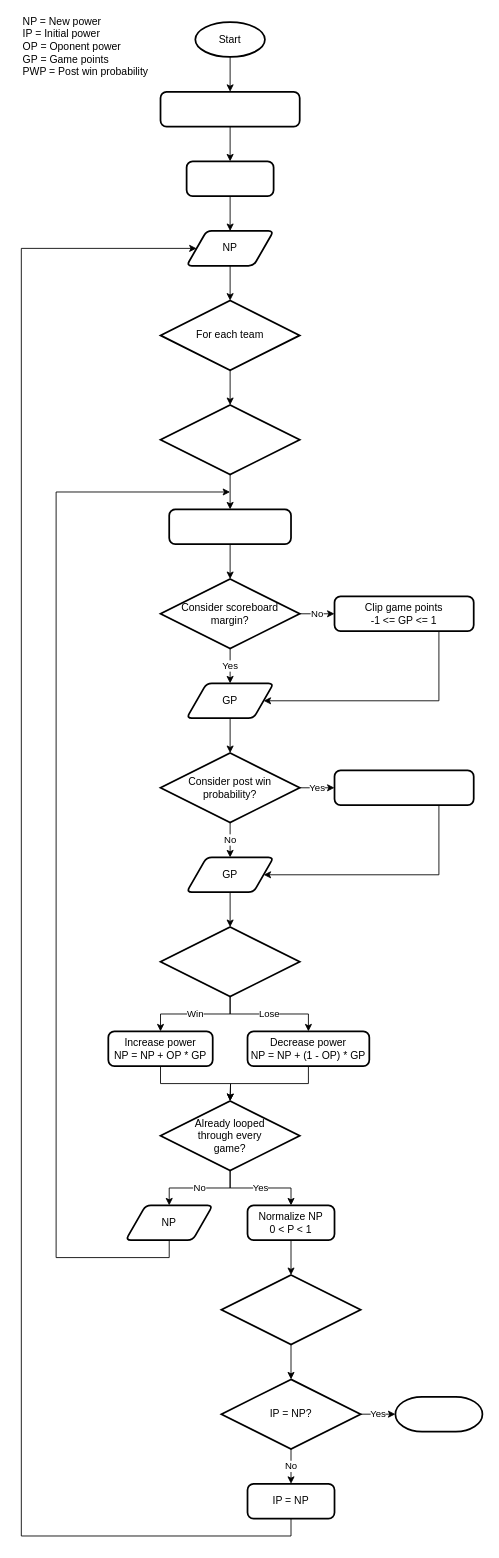
Image size: 499x1558. Some labels were removed from this diagram. The shapes that lost their labels are listed below. From the top down, each one's centre as x and y in pixels, then its label:
At (x=229, y=108): "Random initial power values 0.4 < IP < 0.6".
At (x=229, y=178): "NP = IP".
At (x=229, y=439): "For each game".
At (x=229, y=526): "GP = Scoreboard margin".
At (x=403, y=787): "Apply post win probability GP = GP * PWP".
At (x=229, y=961): "Game result?".
At (x=290, y=1309): "Already looped through every team".
At (x=438, y=1413): "End".
